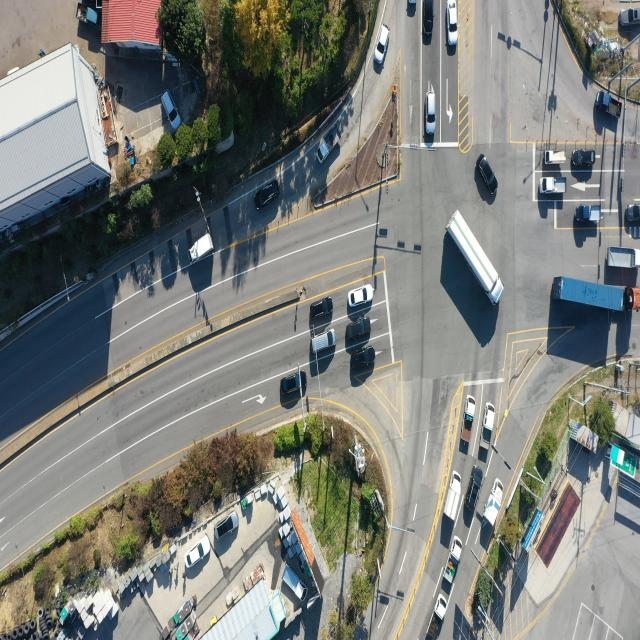car: (478, 154, 499, 194), (187, 536, 212, 568), (256, 181, 281, 213), (161, 93, 180, 133), (465, 467, 482, 511), (349, 344, 376, 370), (309, 330, 336, 356), (350, 314, 377, 340), (354, 351, 381, 376), (215, 511, 238, 540), (346, 320, 372, 344), (280, 372, 306, 396), (375, 24, 390, 64), (309, 298, 334, 322), (348, 284, 374, 307), (447, 0, 458, 44), (571, 148, 595, 167), (423, 1, 433, 46), (427, 95, 437, 137), (620, 8, 640, 26), (625, 203, 640, 223), (408, 0, 418, 19)
large_truck: (554, 276, 640, 313)
medium_truck: (449, 214, 506, 310), (608, 248, 640, 270)
small_truck: (424, 594, 448, 640), (442, 471, 462, 524), (281, 566, 307, 603), (444, 536, 464, 584), (597, 88, 623, 121), (484, 482, 503, 526), (319, 128, 342, 164), (481, 401, 497, 451), (188, 233, 212, 266), (75, 5, 101, 31), (462, 396, 476, 444), (576, 204, 601, 223), (542, 180, 568, 198), (545, 150, 568, 164)
